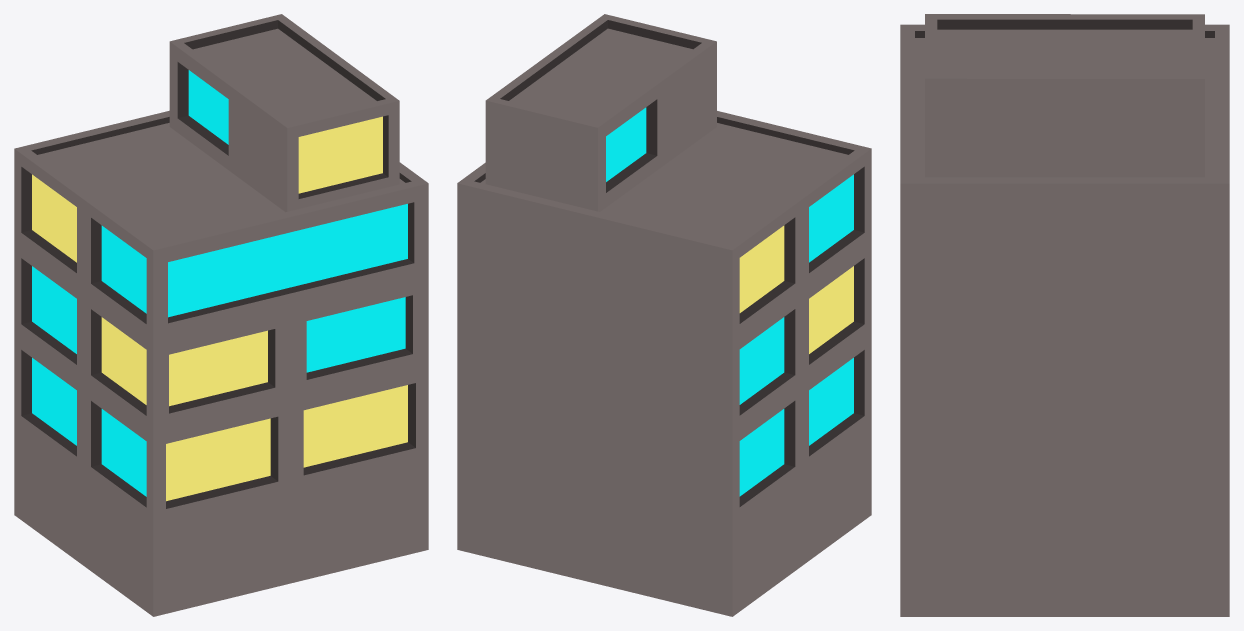
The model's file is Edificio3.glb.
3 renders of one model, left to right at view 1: azimuth 30°, elevation 25°; view 2: azimuth 150°, elevation 25°; view 3: azimuth 270°, elevation 25°, orthographic. The views are drawn at different scales.
Visible parts, largest first — view 1: Edificio3; view 2: Edificio3; view 3: Edificio3.
Part boxes in pixels (x1,y1,x2,y2): Edificio3: (14,14,428,616); Edificio3: (457,14,871,616); Edificio3: (900,14,1229,616).
Bounding box in the file's own units: 32.24 × 49.91 × 28.25.
